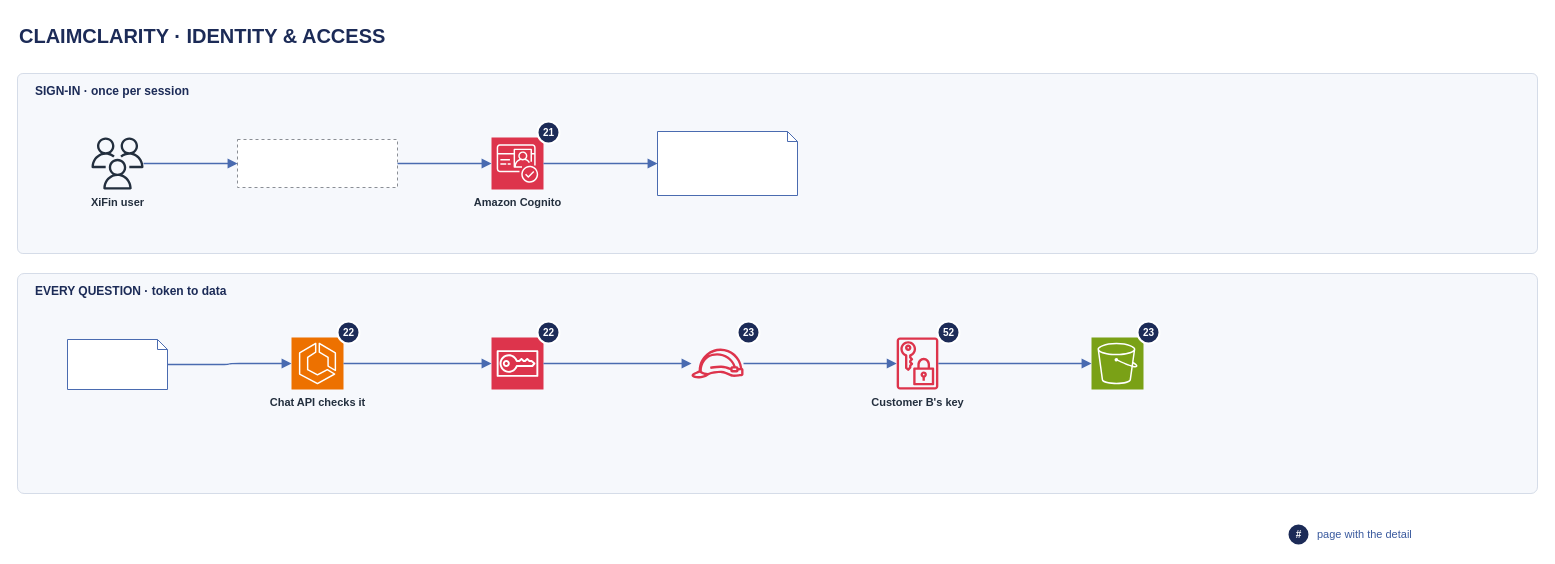
The diagram is 1555 pixels wide and 564 high, and some of its shapes have lost their labels. Each missing label, with the box of its shape:
Customer B's role: (691, 337, 743, 389)
ID token: (66, 338, 168, 390)
ID token in session cookie: (656, 130, 798, 196)
Microsoft Entra ID: (236, 138, 398, 188)
S3 · B's gold only: (1090, 336, 1144, 390)
STS: (490, 336, 544, 390)
